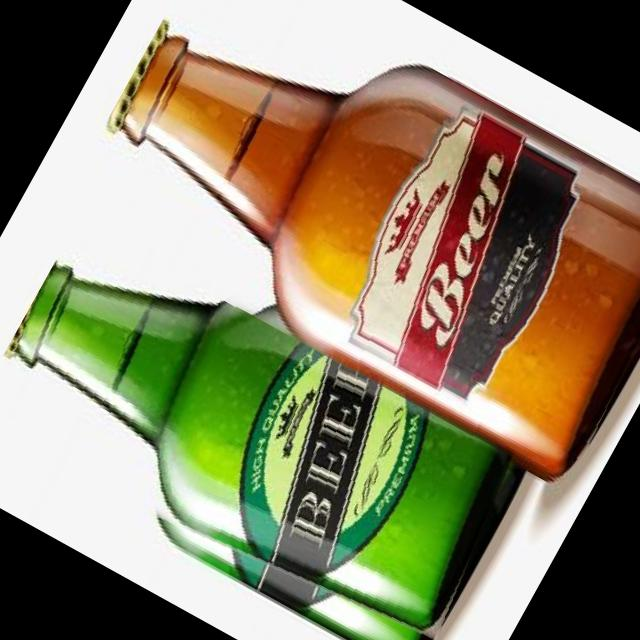Glass: (58, 0, 640, 490), (0, 201, 539, 640)
